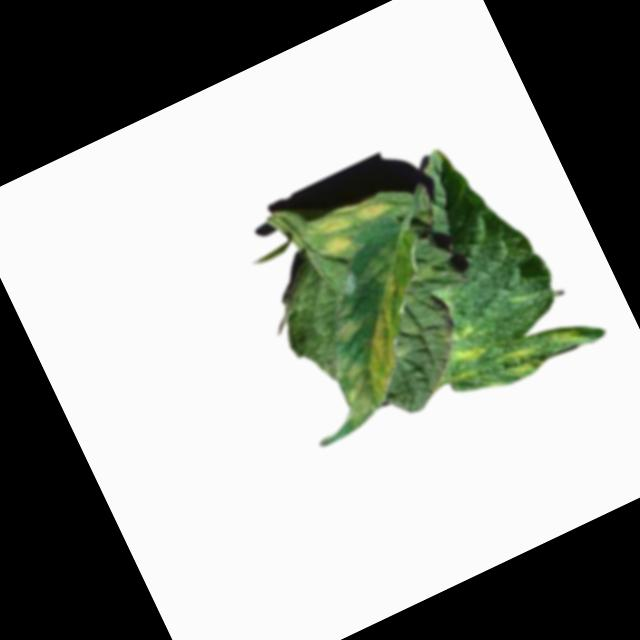Leaf_Mold: (310, 305, 429, 426), (305, 185, 404, 267), (494, 336, 548, 385), (437, 321, 489, 371)
